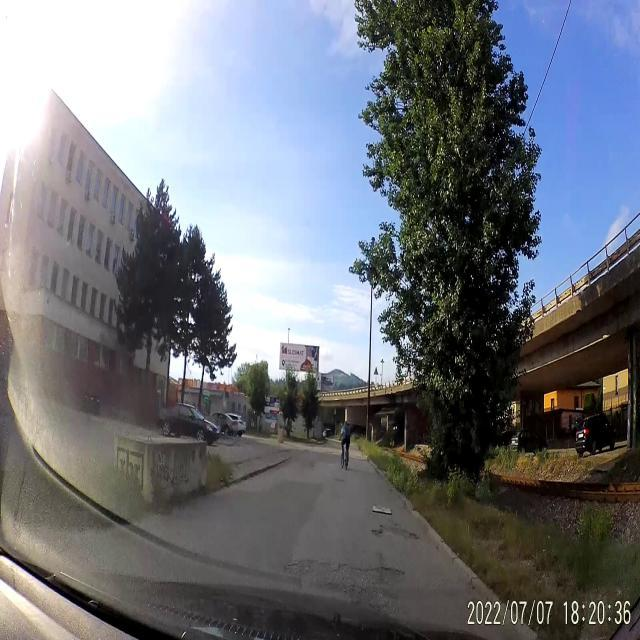Manhole: (371, 501, 394, 516)
Pothole: (282, 552, 334, 590), (370, 514, 421, 548), (360, 564, 408, 596), (333, 476, 345, 484)
